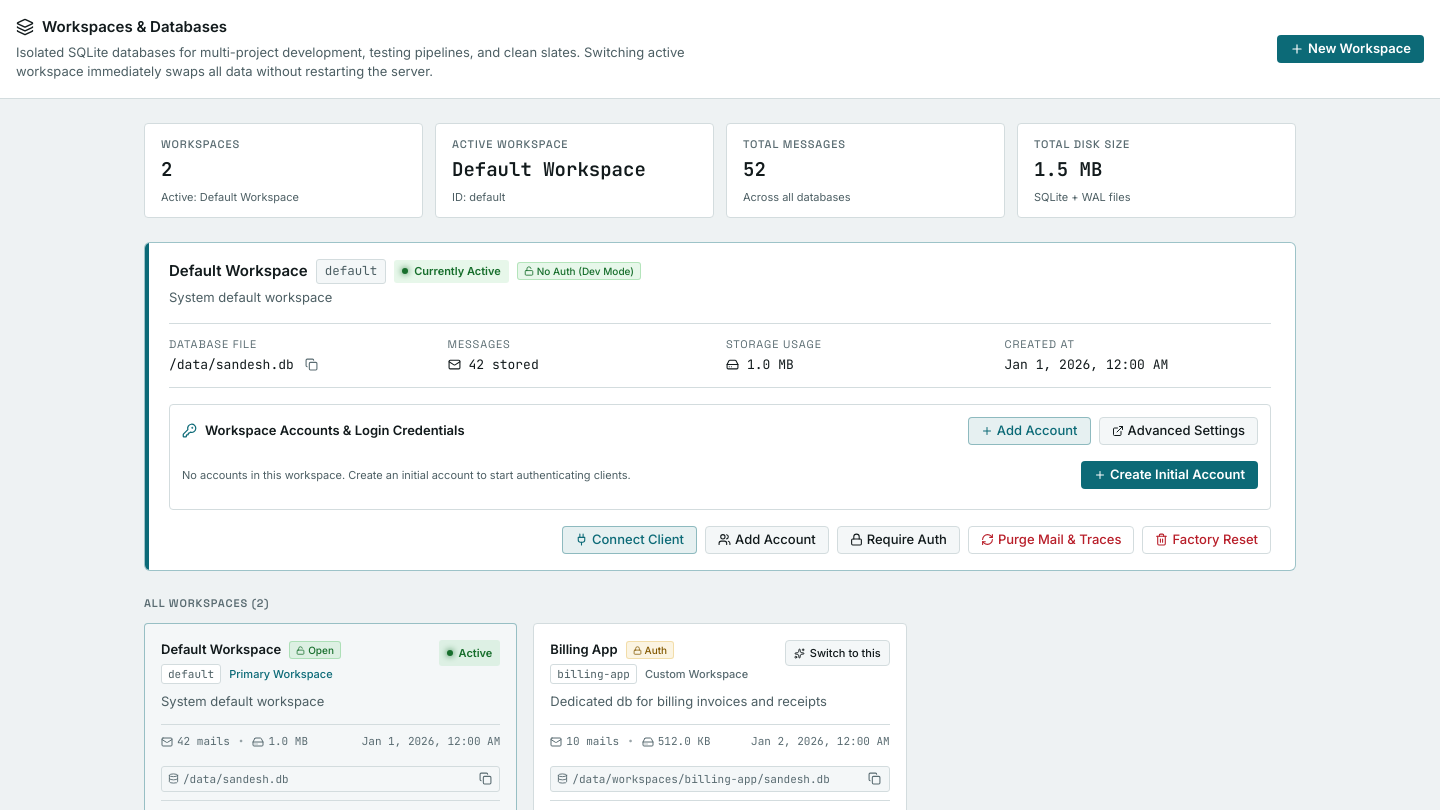
Test: WorkspacesRoute › opens ConnectClientModal when clicking Connect Client
The width and height of the screenshot is (1440, 810).
Expected: the text "Connect Client" is shown, [592,530,684,550]
Click the button "Connect Client".
click(630, 540)  # box [562,526,697,554]
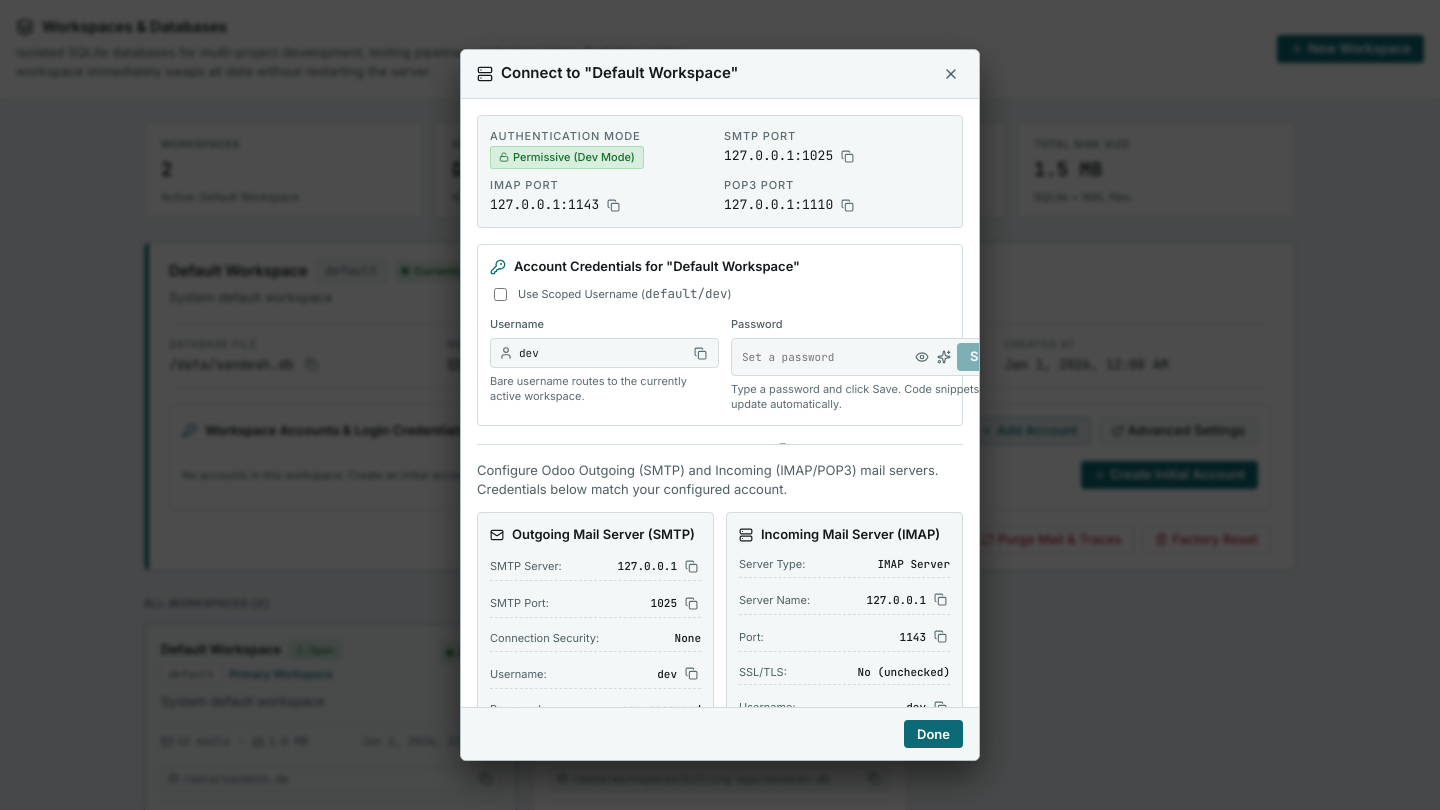
Expected: the text "Connect to \"Default Workspace\"" is shown, [501,62,738,85]
